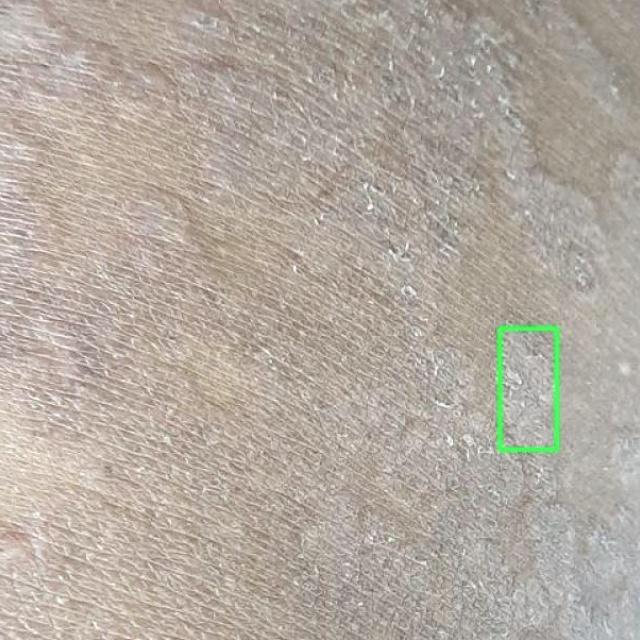Tinea Corporis: (499, 328, 556, 449)
